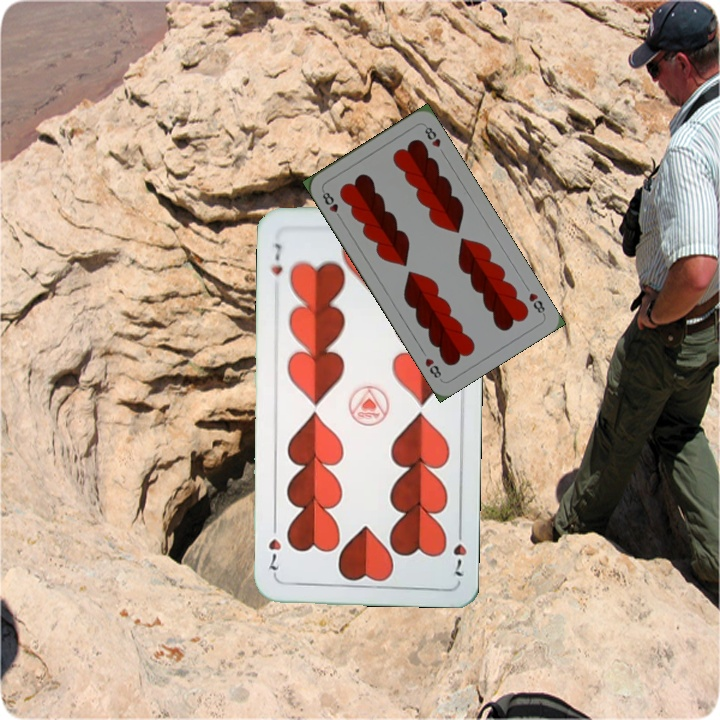H7: (449, 522, 469, 579), (267, 239, 285, 278)
H8: (318, 186, 345, 223), (525, 289, 548, 318)
